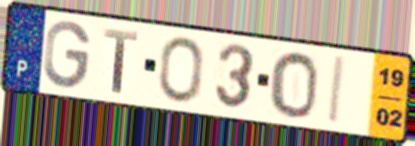3: (211, 42, 256, 111)
G: (41, 19, 93, 91)
I: (326, 54, 349, 127)
O: (269, 49, 320, 121), (158, 34, 205, 106)
T: (102, 26, 140, 96)
